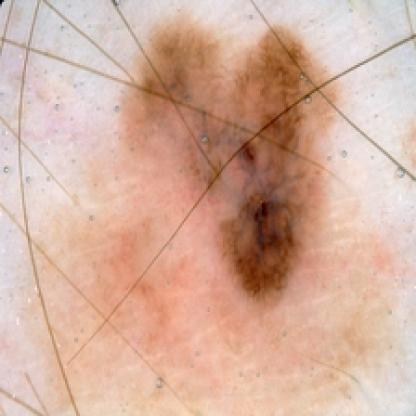malignant: (132, 17, 323, 299)
